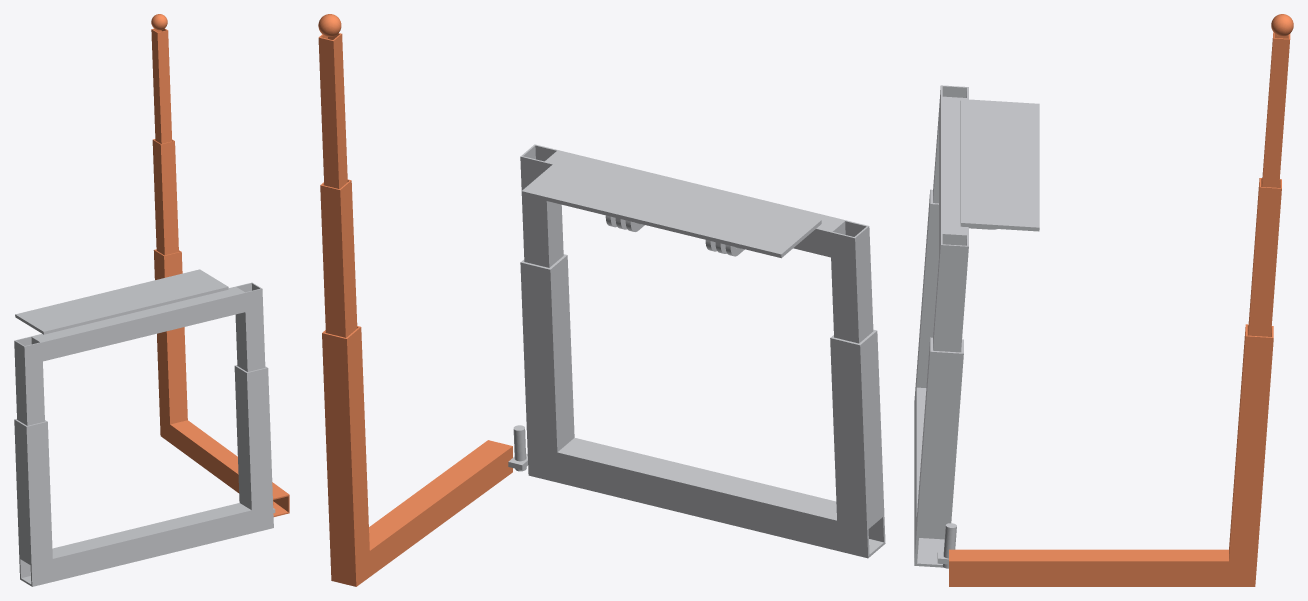
File: center_stand_extended.glb
The picture shows the model from 3 angles, left to right: view 1: azimuth 30°, elevation 25°; view 2: azimuth 150°, elevation 25°; view 3: azimuth 270°, elevation 25°; orthographic projection. The views are drawn at different scales.
Parts seen in each view (by area): view 1: frame, handle; view 2: frame, handle; view 3: frame, handle.
Boxes of the visible parts, left/top/right/bottom form: frame: left=14, top=269, right=275, bottom=586; handle: left=151, top=14, right=289, bottom=516; frame: left=508, top=144, right=885, bottom=558; handle: left=318, top=14, right=512, bottom=586; frame: left=914, top=85, right=1039, bottom=568; handle: left=949, top=14, right=1293, bottom=586.
Size of the model in its own units: 0.4826 by 0.7034 by 0.4274.
